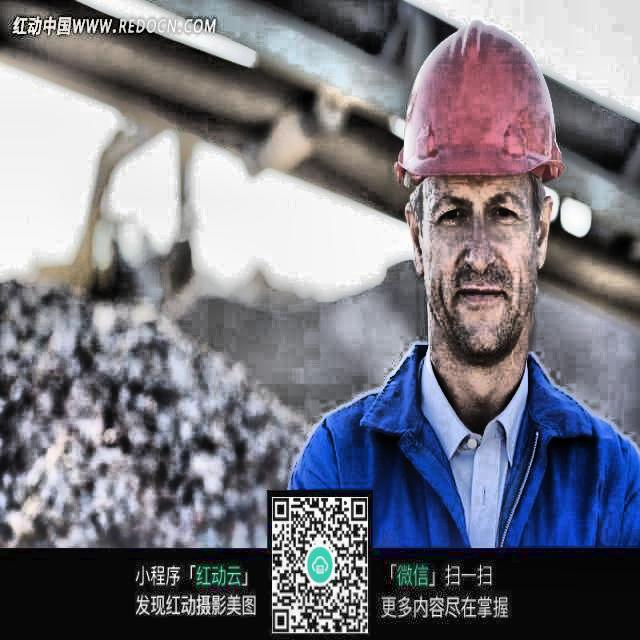person: (281, 19, 640, 540)
